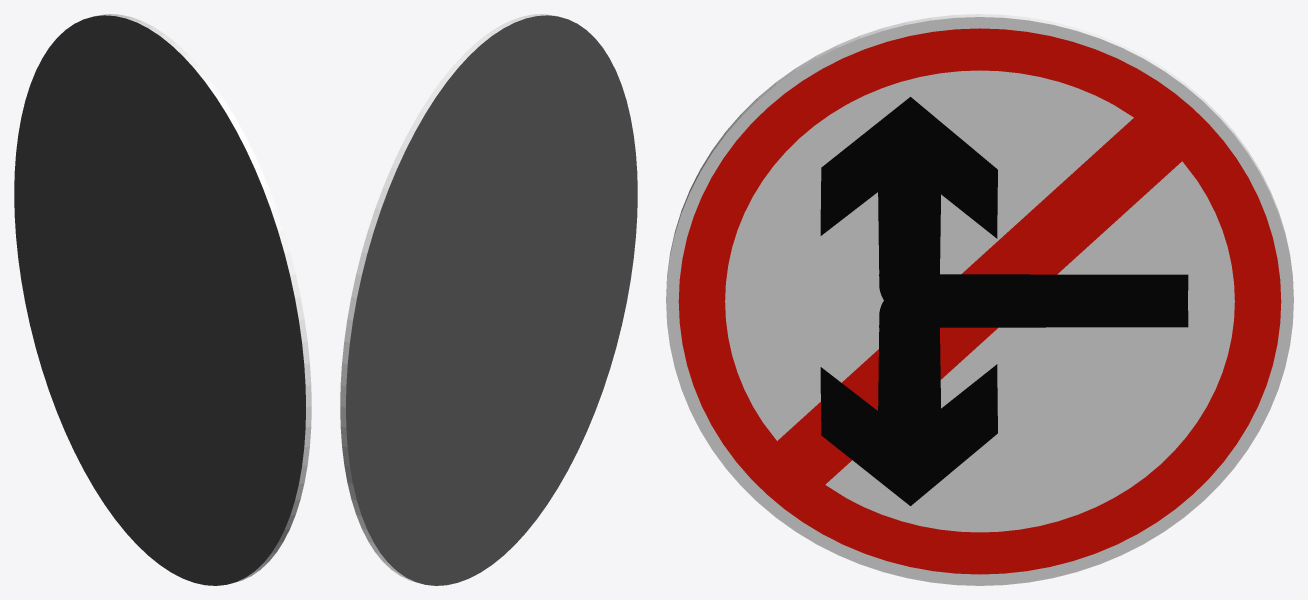
File: 禁止转向.gltf
The picture shows the model from 3 angles, left to right: view 1: azimuth 30°, elevation 25°; view 2: azimuth 150°, elevation 25°; view 3: azimuth 270°, elevation 25°; orthographic projection. The views are drawn at different scales.
Parts seen in each view (by area): view 1: 圆环; view 2: 圆环; view 3: 圆环, BezierCurve.001.
Boxes of the visible parts, <box> form: 圆环: <box>14,14,311,585</box>; 圆环: <box>340,14,637,585</box>; 圆环: <box>666,14,1293,585</box>; BezierCurve.001: <box>820,97,1188,505</box>.
Bounding box in the file's own units: 0.0101 × 0.8 × 0.8.
